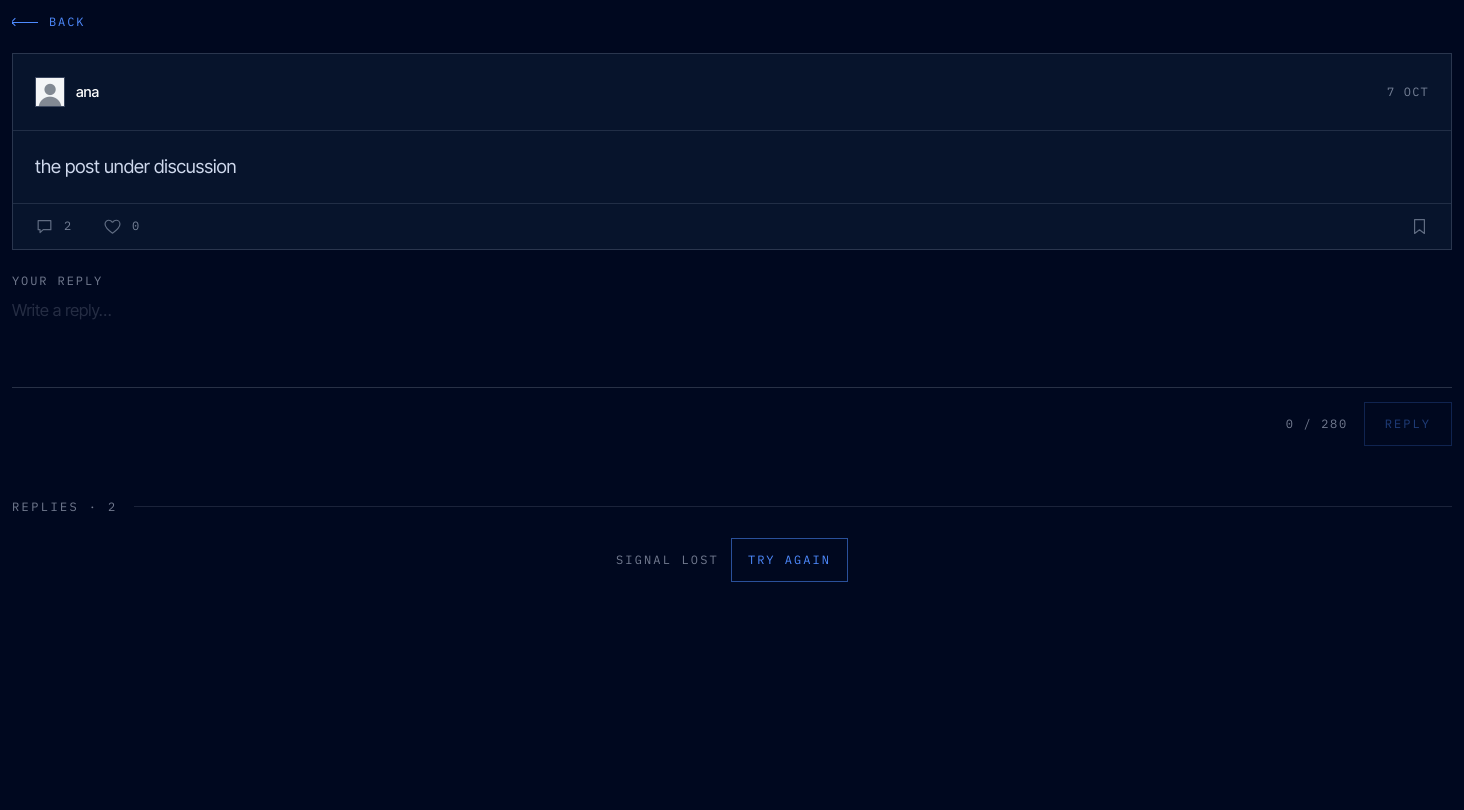
the replies list › should_show_the_error_with_retry_under_the_composer_when_the_replies_read_fails
Check: the text "the post under discussion" is shown, box [35, 155, 236, 177]
Check: the text box labelled "YOUR REPLY" is shown, box [12, 298, 1452, 387]
Click the button "TRY AGAIN": (790,560) [731, 538, 848, 582]
Wait 1 ms
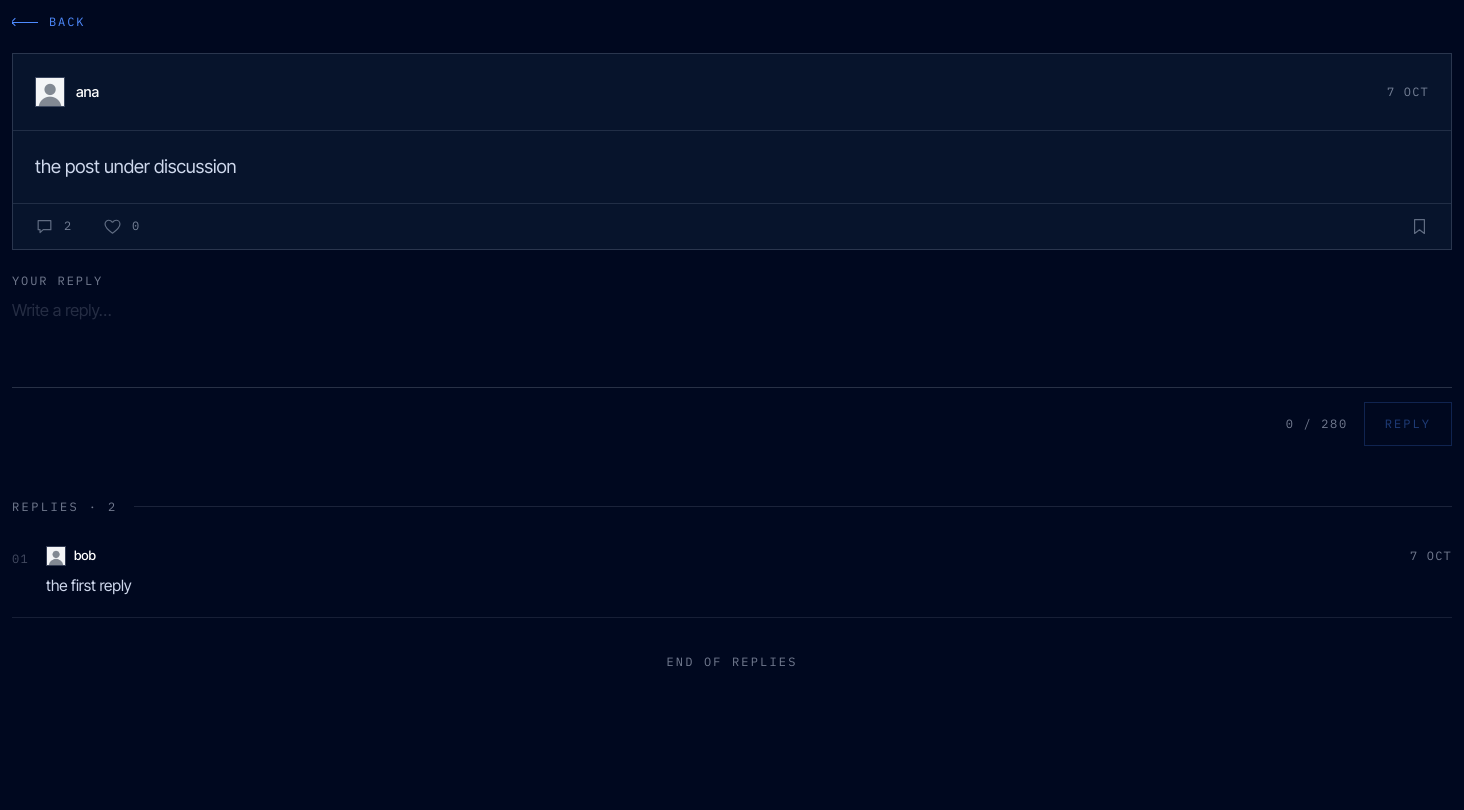
Check: the text "the first reply" is shown, box [46, 576, 132, 595]
